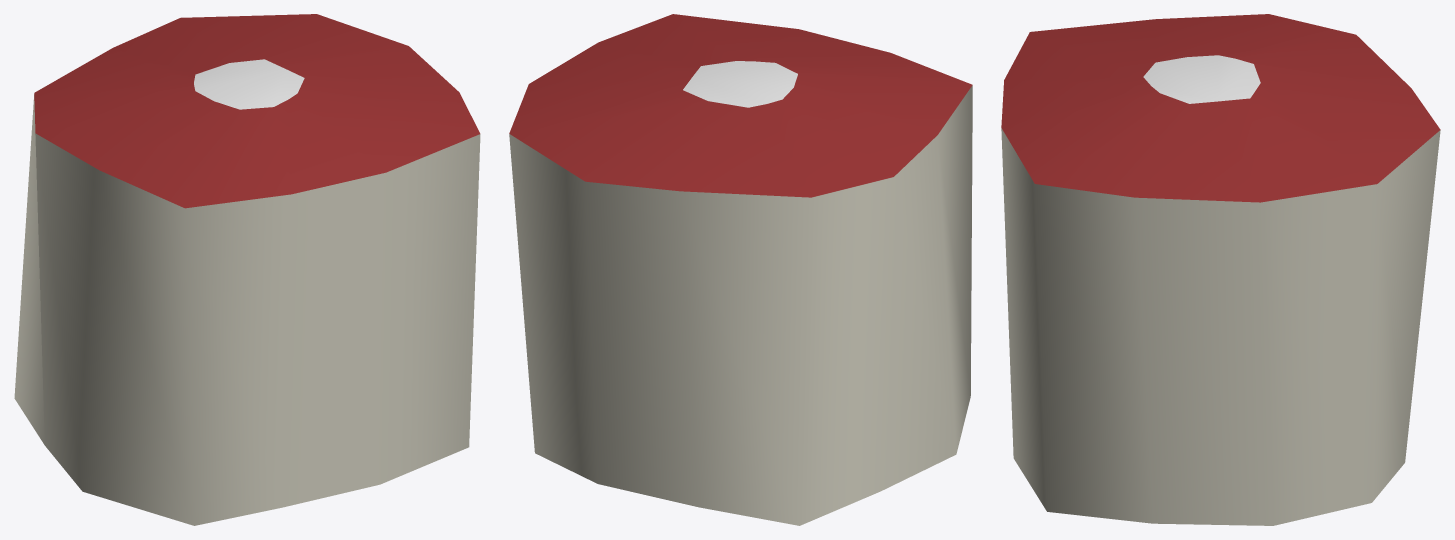
Rendered from FishRemain.fbx.
The picture shows the model from 3 angles, left to right: view 1: azimuth 30°, elevation 25°; view 2: azimuth 150°, elevation 25°; view 3: azimuth 270°, elevation 25°; orthographic projection. The views are drawn at different scales.
Visible parts, largest first — view 1: Cube; view 2: Cube; view 3: Cube.
Part boxes in pixels (left/top/right/bottom): Cube: left=14, top=14, right=480, bottom=525; Cube: left=509, top=14, right=972, bottom=525; Cube: left=1001, top=14, right=1440, bottom=525.
Bounding box in the file's own units: 215 × 201 × 207.
